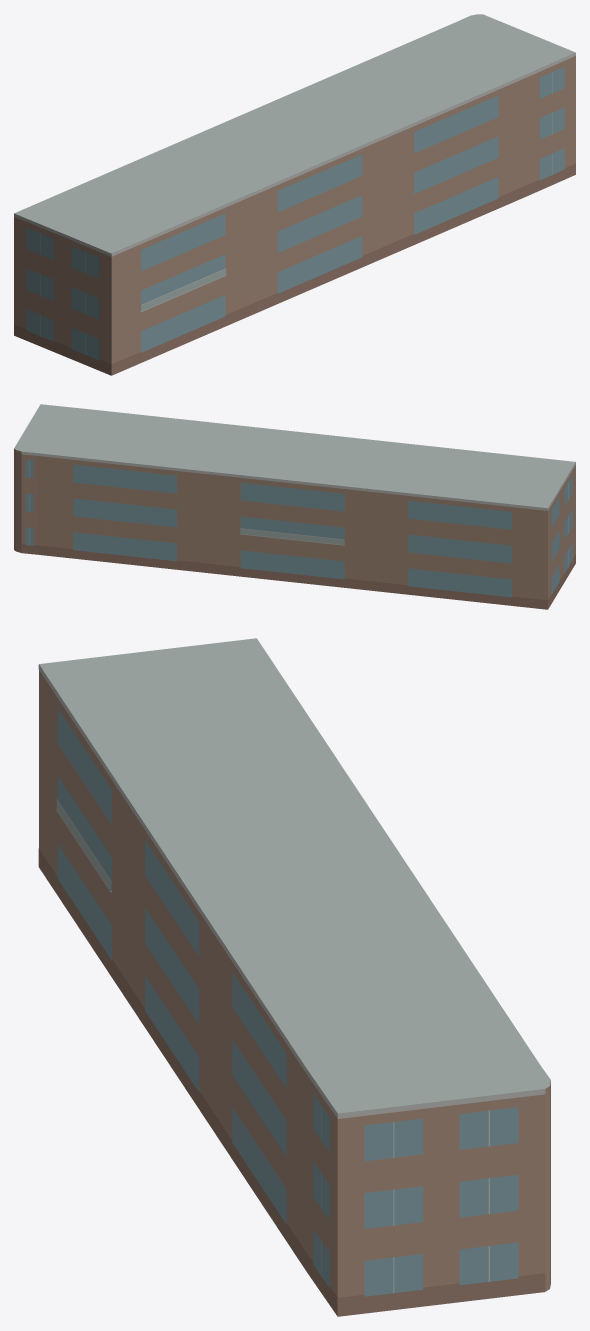
File: survey-upis-32527003.glb
3 renders of one model, top to bottom at view 1: azimuth 30°, elevation 25°; view 2: azimuth 150°, elevation 25°; view 3: azimuth 270°, elevation 25°, orthographic. The views are drawn at different scales.
Parts seen in each view (by area): view 1: survey-upis-32527003.tmp; view 2: survey-upis-32527003.tmp; view 3: survey-upis-32527003.tmp.
Part boxes in pixels (bbox=[...]): survey-upis-32527003.tmp: bbox=[14, 14, 575, 375]; survey-upis-32527003.tmp: bbox=[14, 404, 575, 609]; survey-upis-32527003.tmp: bbox=[38, 638, 550, 1316].
Size of the model in its own units: 45.96 by 9.15 by 20.93.
